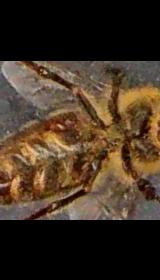varroa_mite: (46, 104, 81, 136)
